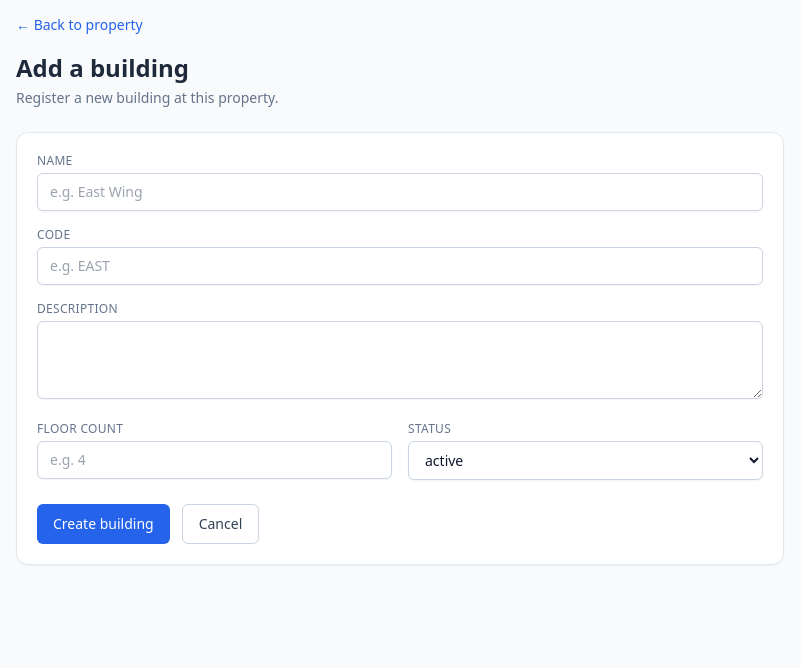
Staff building form page › surfaces server 422 field errors
This screenshot has width=801, height=668.
Type "East Wing" into the field labelled "Name". click: (400, 192)
box: [37,173,763,211]
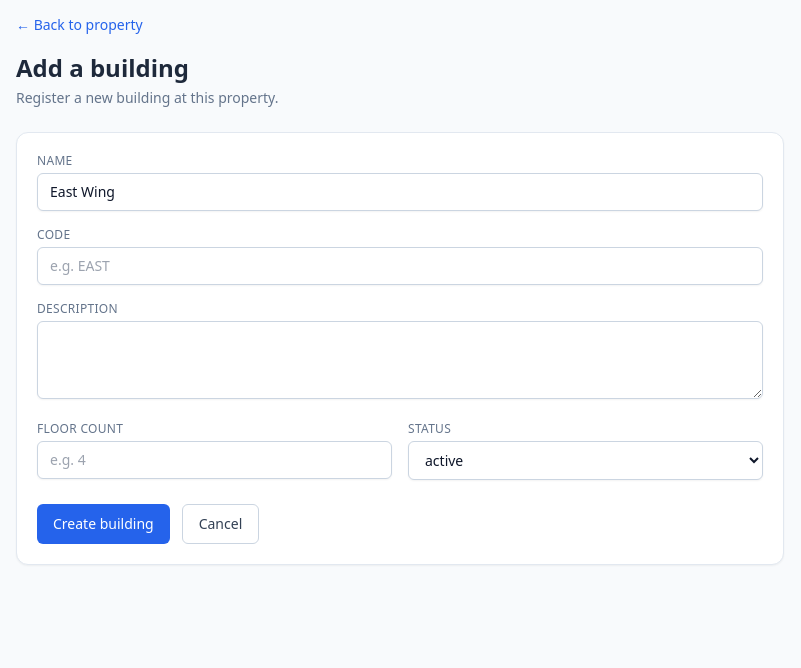
Type "EAST" into the field labelled "Code". click: (400, 266)
box: [37,247,763,285]
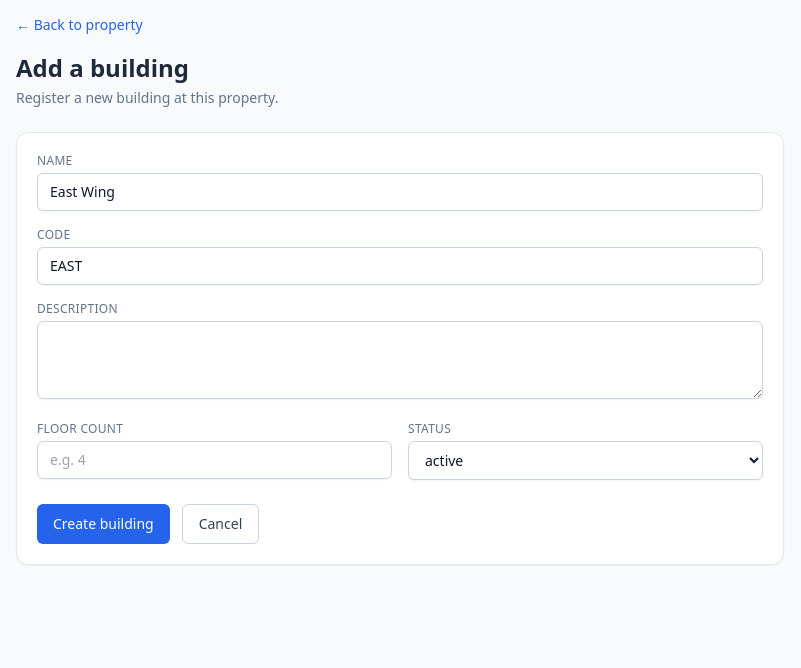
Click the button "Create building". click: (103, 524)
box: [37,504,170,544]
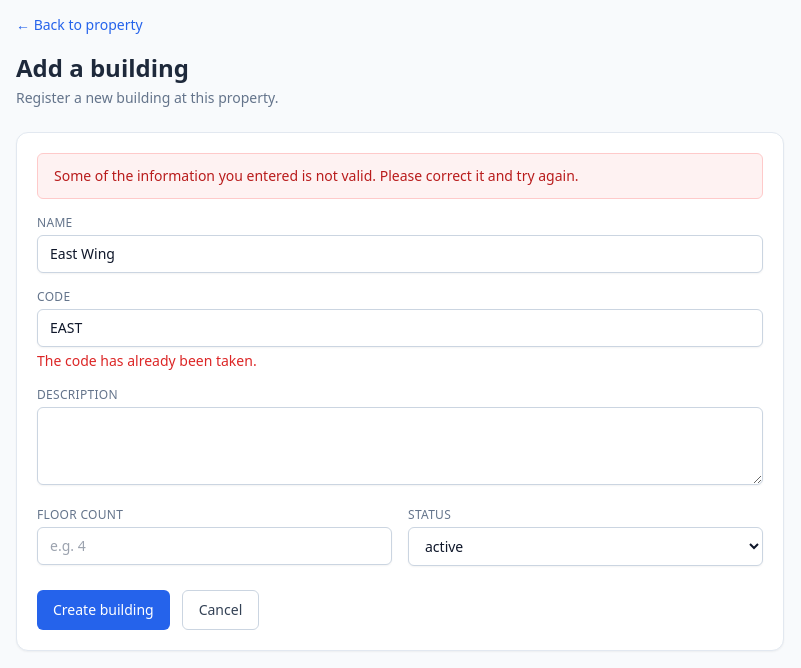
Check: the text "The code has already been taken." is shown, box [37,351,257,370]
